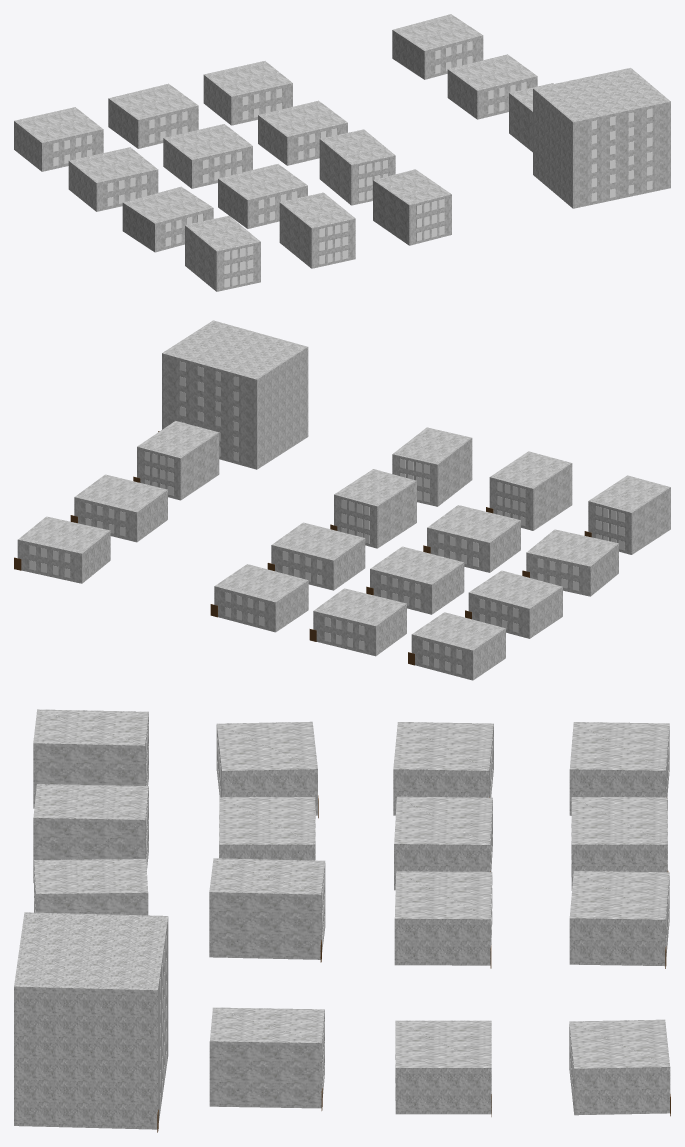
The model's file is bld_mlmvlyh0_dlc700p.glb.
3 renders of one model, top to bottom at view 1: azimuth 30°, elevation 25°; view 2: azimuth 150°, elevation 25°; view 3: azimuth 270°, elevation 25°, orthographic. The views are drawn at different scales.
Parts seen in each view (by area): view 1: building-building-1771107380190-19, building-building-1771107380190-17, building-building-1771107380190-16, building-building-1771107380190-15, building-building-1771107380190-4, building-building-1771107380190-1, building-building-1771107380190-5, building-building-1771107380190-6, building-building-1771107380190-0, building-building-1771107380190-2, building-building-1771107380190-12, building-building-1771107380190-10 (+4 smaller); view 2: building-building-1771107380190-19, building-building-1771107380190-16, building-building-1771107380190-2, building-building-1771107380190-14, building-building-1771107380190-0, building-building-1771107380190-12, building-building-1771107380190-15, building-building-1771107380190-1, building-building-1771107380190-4, building-building-1771107380190-6, building-building-1771107380190-7, building-building-1771107380190-5 (+4 smaller); view 3: building-building-1771107380190-19, building-building-1771107380190-12, building-building-1771107380190-14, building-building-1771107380190-4, building-building-1771107380190-2, building-building-1771107380190-7, building-building-1771107380190-9, building-building-1771107380190-15, building-building-1771107380190-16, building-building-1771107380190-10, building-building-1771107380190-5, building-building-1771107380190-0 (+4 smaller).
Boxes of the visible parts, x1,y1,x2,y2 form: building-building-1771107380190-19: [533, 68, 670, 208]; building-building-1771107380190-17: [373, 169, 451, 245]; building-building-1771107380190-16: [279, 192, 355, 268]; building-building-1771107380190-15: [185, 215, 260, 291]; building-building-1771107380190-4: [392, 14, 483, 79]; building-building-1771107380190-1: [108, 83, 198, 148]; building-building-1771107380190-5: [68, 147, 158, 211]; building-building-1771107380190-6: [163, 124, 252, 188]; building-building-1771107380190-0: [14, 107, 103, 171]; building-building-1771107380190-2: [203, 61, 292, 125]; building-building-1771107380190-12: [319, 129, 395, 205]; building-building-1771107380190-10: [122, 186, 213, 252]; building-building-1771107380190-19: [158, 320, 308, 469]; building-building-1771107380190-16: [486, 451, 572, 530]; building-building-1771107380190-2: [210, 564, 308, 632]; building-building-1771107380190-14: [133, 421, 219, 500]; building-building-1771107380190-0: [408, 612, 505, 680]; building-building-1771107380190-12: [330, 469, 416, 548]; building-building-1771107380190-15: [584, 475, 670, 554]; building-building-1771107380190-1: [309, 588, 406, 656]; building-building-1771107380190-4: [14, 516, 110, 583]; building-building-1771107380190-6: [366, 546, 464, 614]; building-building-1771107380190-7: [267, 522, 365, 590]; building-building-1771107380190-5: [465, 570, 562, 638]; building-building-1771107380190-19: [14, 912, 168, 1132]; building-building-1771107380190-12: [209, 858, 325, 962]; building-building-1771107380190-14: [209, 1007, 324, 1110]; building-building-1771107380190-4: [569, 1019, 670, 1116]; building-building-1771107380190-2: [569, 871, 669, 968]; building-building-1771107380190-7: [394, 871, 492, 968]; building-building-1771107380190-9: [395, 1020, 491, 1116]; building-building-1771107380190-15: [33, 709, 148, 808]; building-building-1771107380190-16: [33, 784, 148, 882]; building-building-1771107380190-10: [216, 721, 318, 818]; building-building-1771107380190-5: [393, 722, 493, 815]; building-building-1771107380190-0: [569, 722, 669, 815].
Bounding box in the file's own units: 108 × 19.23 × 82.04.
80 materials, 16 textured.
